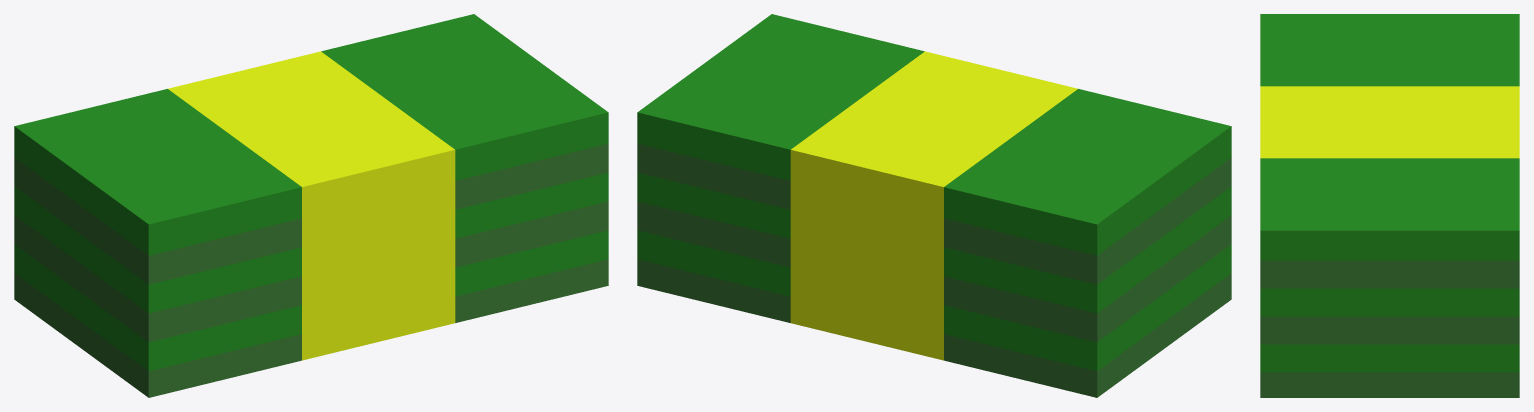
File: Money.fbx
The picture shows the model from 3 angles, left to right: view 1: azimuth 30°, elevation 25°; view 2: azimuth 150°, elevation 25°; view 3: azimuth 270°, elevation 25°; orthographic projection. The views are drawn at different scales.
Visible parts, largest first — view 1: Cube; view 2: Cube; view 3: Cube.
Boxes of the visible parts, x1,y1,x2,y2 form: Cube: (14,14,608,397); Cube: (637,14,1231,397); Cube: (1260,14,1519,397).
Size of the model in its own units: 21.86 by 7.88 by 11.07.
